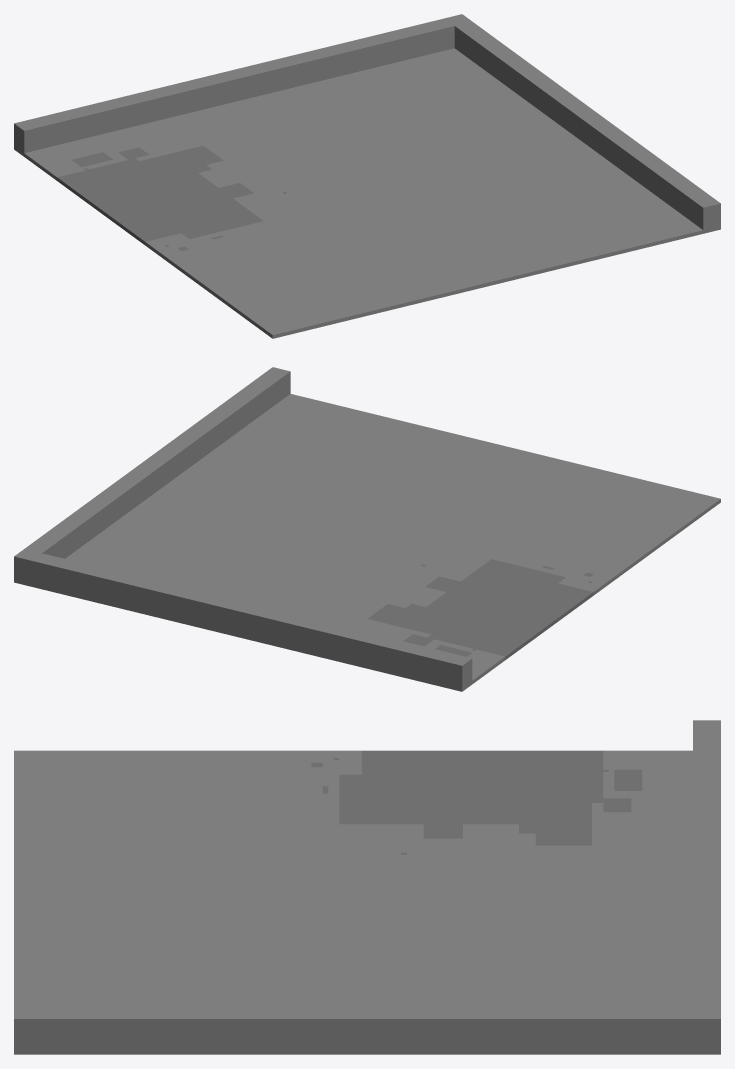
The model's file is 4x2 third (1)-7.obj.
3 views of the same model, one above another, from view 1: azimuth 30°, elevation 25°; view 2: azimuth 150°, elevation 25°; view 3: azimuth 270°, elevation 25° (orthographic). The views are drawn at different scales.
Visible parts, largest first — view 1: 4x2 third (1)-7; view 2: 4x2 third (1)-7; view 3: 4x2 third (1)-7.
Part boxes in pixels (x1=…): 4x2 third (1)-7: x1=14, y1=14, x2=720, y2=338; 4x2 third (1)-7: x1=14, y1=367, x2=720, y2=691; 4x2 third (1)-7: x1=14, y1=720, x2=720, y2=1054.
Size of the model in its own units: 126 by 7 by 126.
Materials: 1 (1 with a texture image).
